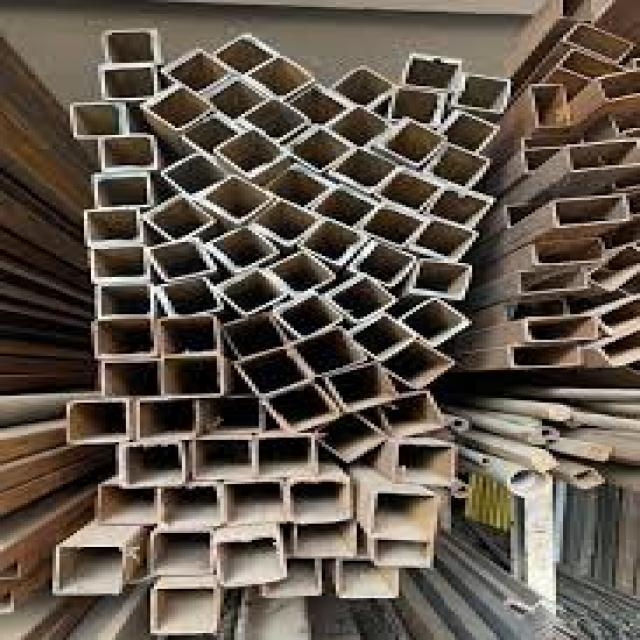pipe: (236, 348, 310, 398), (269, 382, 337, 434), (200, 175, 272, 224), (52, 545, 121, 596), (383, 343, 454, 392), (294, 329, 366, 377), (217, 536, 283, 588), (217, 131, 287, 180), (144, 194, 215, 242), (327, 366, 399, 413), (317, 416, 386, 464), (145, 85, 214, 132), (266, 251, 333, 299), (404, 298, 469, 347), (152, 586, 218, 634), (263, 165, 333, 210), (250, 202, 321, 246), (223, 314, 290, 360), (219, 269, 287, 314), (283, 127, 352, 171), (377, 168, 441, 215), (349, 315, 415, 360), (278, 295, 344, 340), (212, 226, 278, 271), (164, 51, 233, 94), (240, 100, 310, 142), (331, 276, 396, 321), (329, 150, 397, 193), (245, 57, 314, 99), (151, 530, 211, 578), (361, 204, 425, 249), (426, 145, 490, 189), (371, 493, 433, 538), (152, 237, 214, 282), (162, 156, 230, 197), (353, 241, 413, 287), (328, 105, 392, 148), (312, 188, 376, 230), (224, 481, 285, 525), (379, 126, 446, 166), (192, 437, 254, 480), (257, 435, 319, 478), (553, 195, 631, 229), (68, 400, 128, 444), (410, 220, 476, 260), (382, 394, 442, 438), (306, 221, 364, 265), (209, 78, 268, 121), (199, 397, 264, 436), (566, 23, 631, 62), (565, 141, 639, 175), (160, 276, 222, 316), (338, 558, 398, 599), (289, 479, 349, 520), (442, 112, 502, 153), (427, 188, 490, 227), (163, 357, 224, 397), (182, 112, 240, 154), (162, 484, 217, 528), (332, 66, 391, 107), (394, 443, 453, 484), (98, 484, 156, 525), (292, 85, 351, 125), (96, 318, 154, 358), (86, 208, 144, 248), (214, 38, 275, 76), (591, 245, 640, 292), (123, 444, 182, 483), (138, 400, 194, 441), (102, 359, 159, 399), (161, 315, 219, 354), (403, 54, 461, 92), (411, 261, 469, 298), (295, 522, 356, 557), (262, 561, 318, 599), (91, 247, 149, 282), (526, 317, 601, 344), (391, 87, 442, 126), (95, 173, 150, 209), (456, 75, 511, 111), (534, 238, 604, 266), (104, 30, 163, 63), (102, 135, 156, 171), (72, 103, 126, 138), (512, 342, 582, 369), (559, 51, 622, 81), (595, 294, 640, 335), (531, 83, 569, 128), (102, 67, 154, 99), (598, 329, 640, 368), (517, 271, 588, 294), (99, 285, 151, 316), (373, 540, 433, 566), (599, 68, 639, 104), (506, 299, 568, 322), (507, 468, 554, 498), (523, 133, 584, 151), (566, 466, 609, 490), (527, 425, 563, 447), (561, 0, 593, 20), (449, 416, 469, 433), (453, 484, 474, 499), (477, 455, 498, 466)
